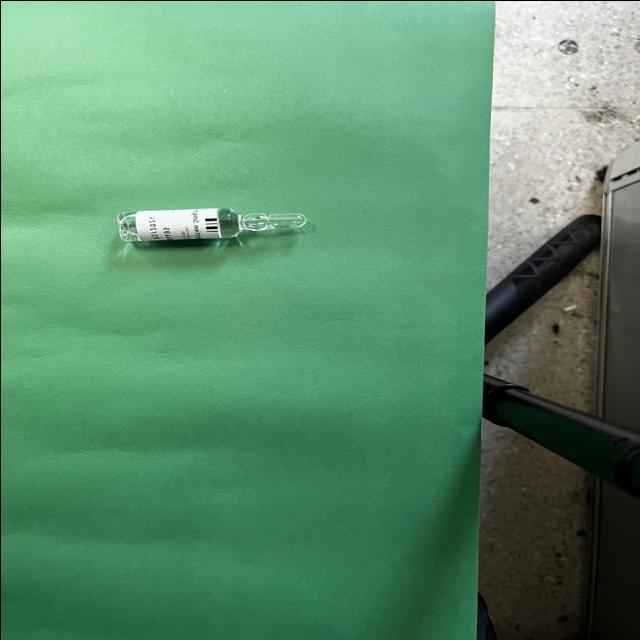Ampoules: (115, 208, 307, 241)
